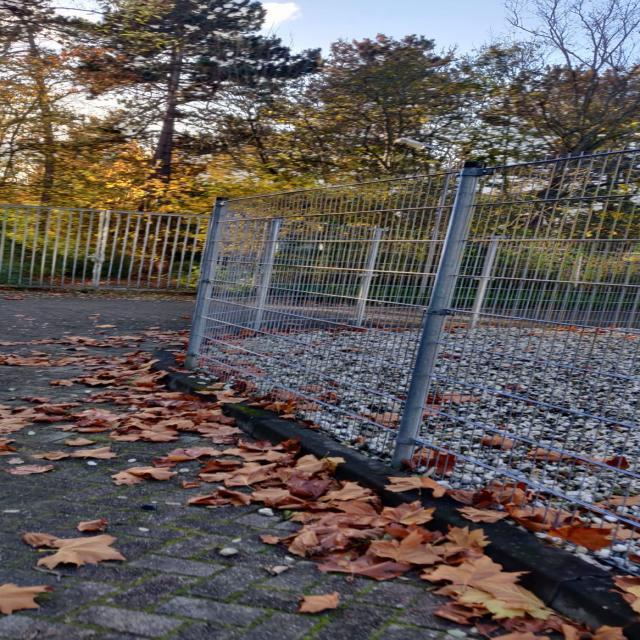fence line: (205, 192, 640, 541)
